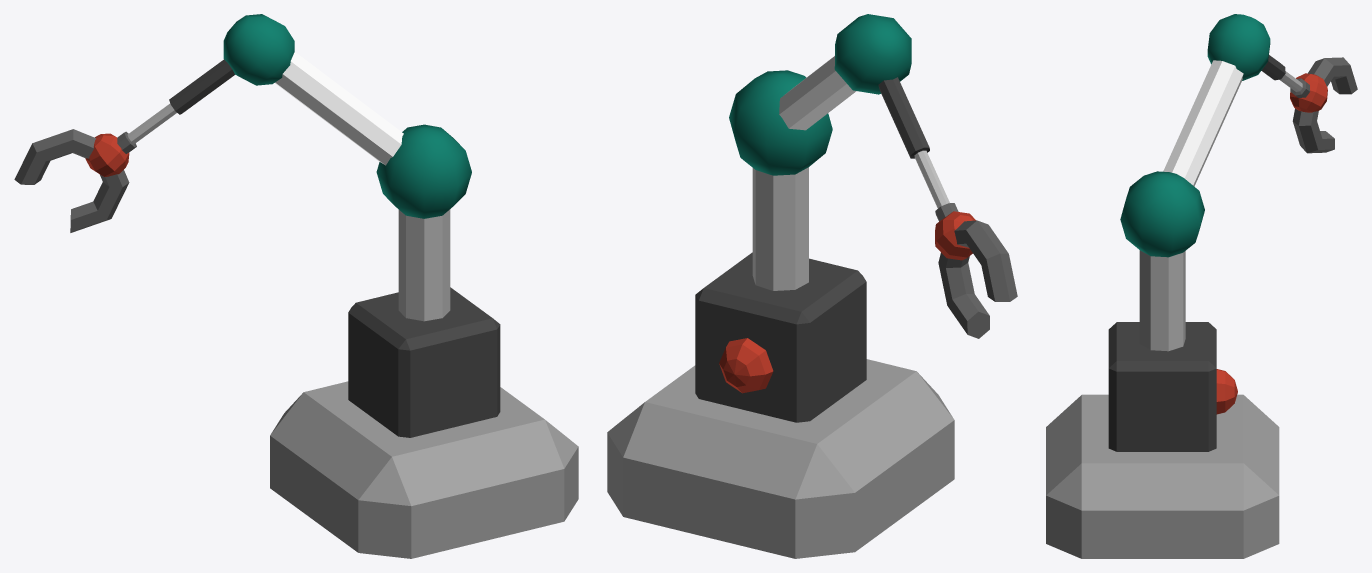
The model's file is RobotArm2_Fractured.fbx.
3 renders of one model, left to right at view 1: azimuth 30°, elevation 25°; view 2: azimuth 150°, elevation 25°; view 3: azimuth 270°, elevation 25°, orthographic. The views are drawn at different scales.
Parts seen in each view (by area): view 1: polySurface136.006, polySurface136.005, polySurface136.001, polySurface136.009, polySurface136.004, polySurface136.002, polySurface136, polySurface136.007, polySurface136.008; view 2: polySurface136.006, polySurface136.005, polySurface136.001, polySurface136.009, polySurface136, polySurface136.002, polySurface136.004, polySurface136.007, polySurface136.003, polySurface136.008; view 3: polySurface136.006, polySurface136.005, polySurface136.001, polySurface136.009, polySurface136.004, polySurface136.002, polySurface136, polySurface136.008, polySurface136.007, polySurface136.003.
Boxes of the visible parts, x1,y1,x2,y2 form: polySurface136.006: [270, 381, 578, 558]; polySurface136.005: [348, 287, 500, 437]; polySurface136.001: [376, 124, 471, 218]; polySurface136.009: [398, 209, 450, 321]; polySurface136.004: [275, 52, 403, 165]; polySurface136.002: [223, 14, 294, 85]; polySurface136: [14, 129, 129, 232]; polySurface136.007: [117, 59, 234, 153]; polySurface136.008: [85, 133, 129, 176]; polySurface136.006: [607, 359, 954, 558]; polySurface136.005: [695, 252, 866, 422]; polySurface136.001: [729, 70, 832, 175]; polySurface136.009: [752, 167, 808, 290]; polySurface136: [938, 220, 1017, 338]; polySurface136.002: [834, 14, 911, 94]; polySurface136.004: [779, 56, 856, 130]; polySurface136.007: [878, 77, 958, 221]; polySurface136.003: [719, 338, 773, 393]; polySurface136.008: [935, 211, 975, 260]; polySurface136.006: [1046, 394, 1279, 558]; polySurface136.005: [1108, 322, 1216, 451]; polySurface136.001: [1120, 171, 1204, 257]; polySurface136.009: [1139, 250, 1185, 351]; polySurface136.004: [1163, 60, 1243, 186]; polySurface136.002: [1207, 14, 1270, 80]; polySurface136: [1292, 57, 1357, 153]; polySurface136.008: [1290, 73, 1327, 112]; polySurface136.007: [1261, 55, 1309, 97]; polySurface136.003: [1216, 369, 1237, 414].
Bounding box in the file's own units: 9.42 × 10.28 × 6.65.
